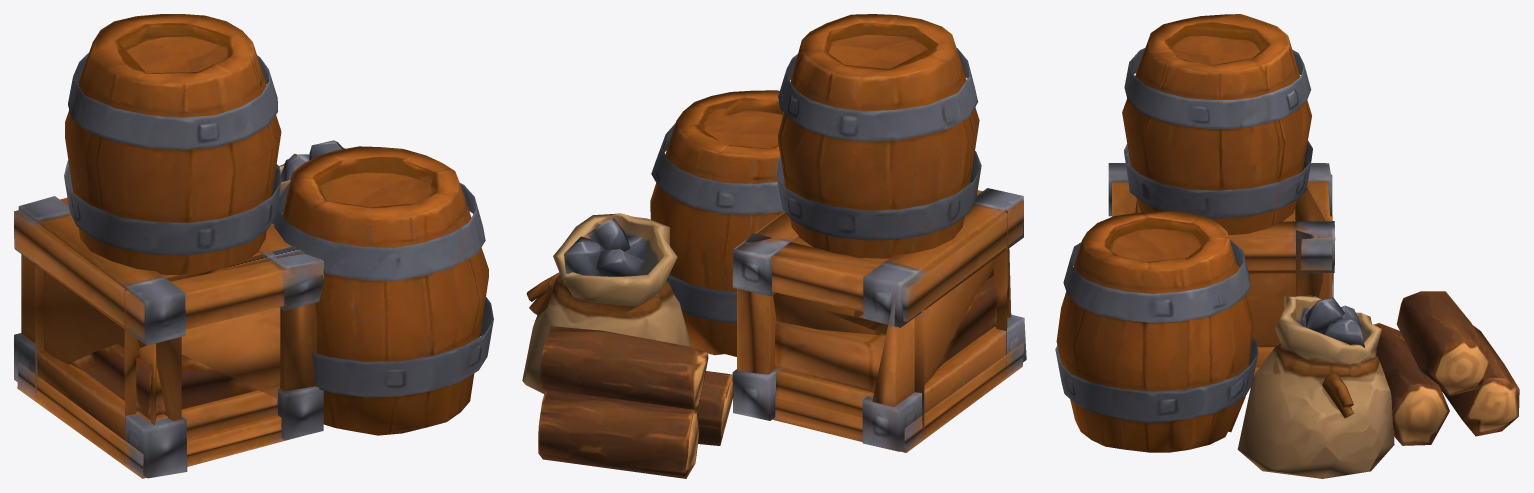
Rendered from tonneaux.glb.
3 renders of one model, left to right at view 1: azimuth 30°, elevation 25°; view 2: azimuth 150°, elevation 25°; view 3: azimuth 270°, elevation 25°, orthographic. The views are drawn at different scales.
Visible parts, largest first — view 1: geometry_0; view 2: geometry_0; view 3: geometry_0.
Part boxes in pixels (bbox=[...]): geometry_0: bbox=[14, 14, 493, 478]; geometry_0: bbox=[522, 14, 1026, 478]; geometry_0: bbox=[1055, 14, 1519, 478].
Bounding box in the file's own units: 0.8047 × 0.7075 × 0.9551.
Materials: 1 (1 with a texture image).
